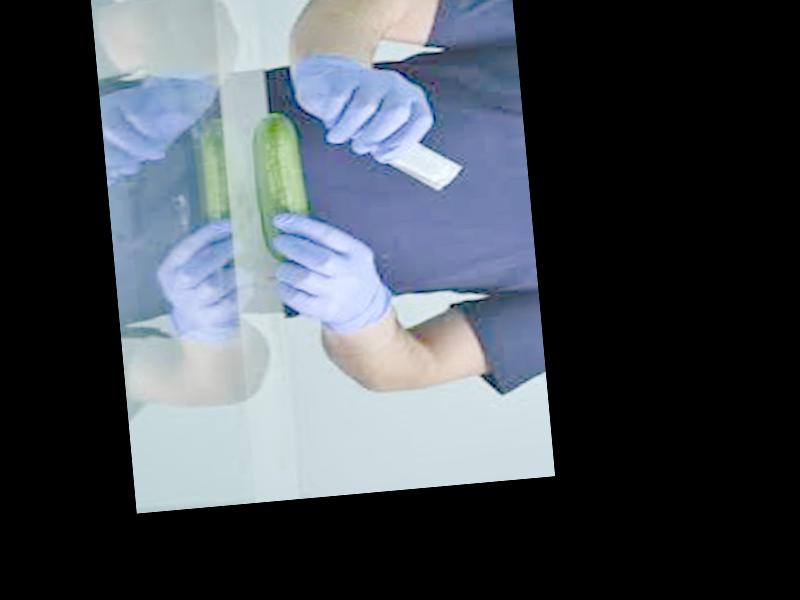Cucumber: (248, 110, 311, 262)
